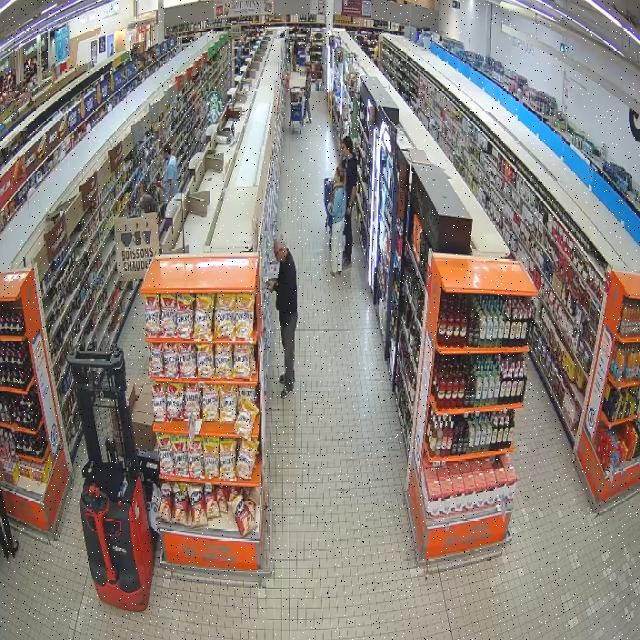article: (261, 275, 278, 283)
hands: (268, 279, 275, 292), (157, 179, 164, 187), (347, 206, 351, 215)
person: (269, 235, 298, 398), (342, 136, 358, 270), (329, 166, 346, 276), (163, 144, 179, 212)
